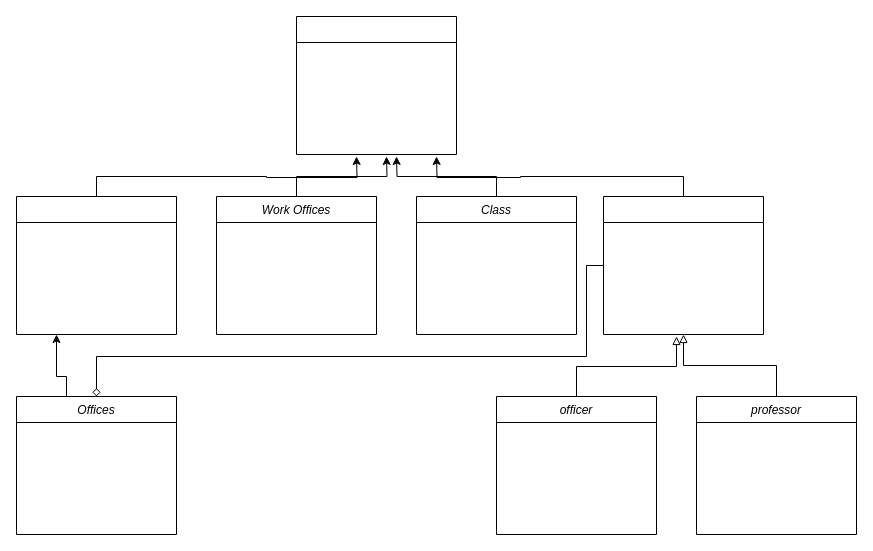
This 873x551 diagram has some shape labels left out. The shapes that lost their labels are listed below. From the top down, each one's box as (x1, y1, x2, y2) in pixels, then its label:
(296, 16, 456, 154): University
(16, 196, 176, 334): Department
(602, 196, 764, 334): Workers
